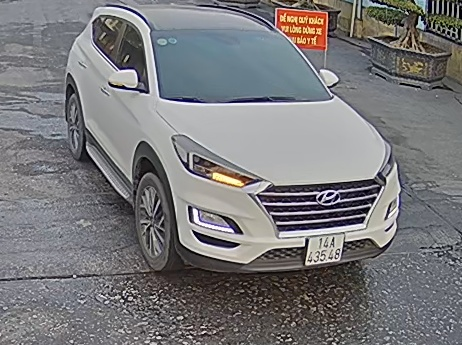vehicle plate: (302, 231, 347, 266)
